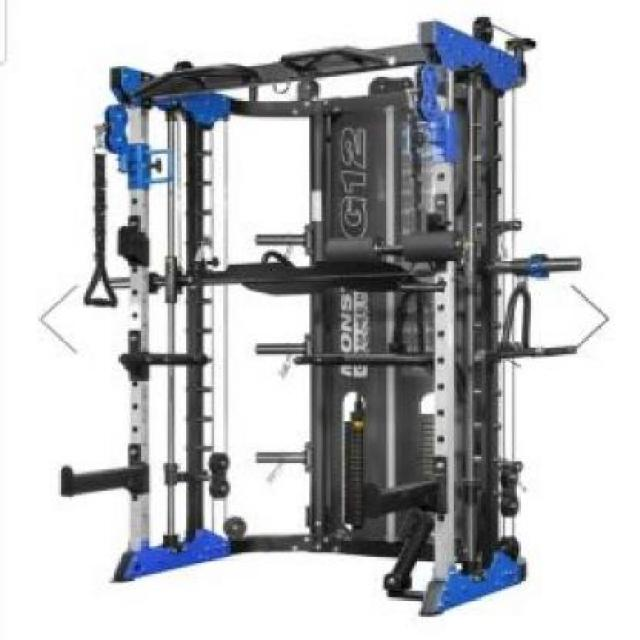smith machine: (83, 16, 575, 618)
